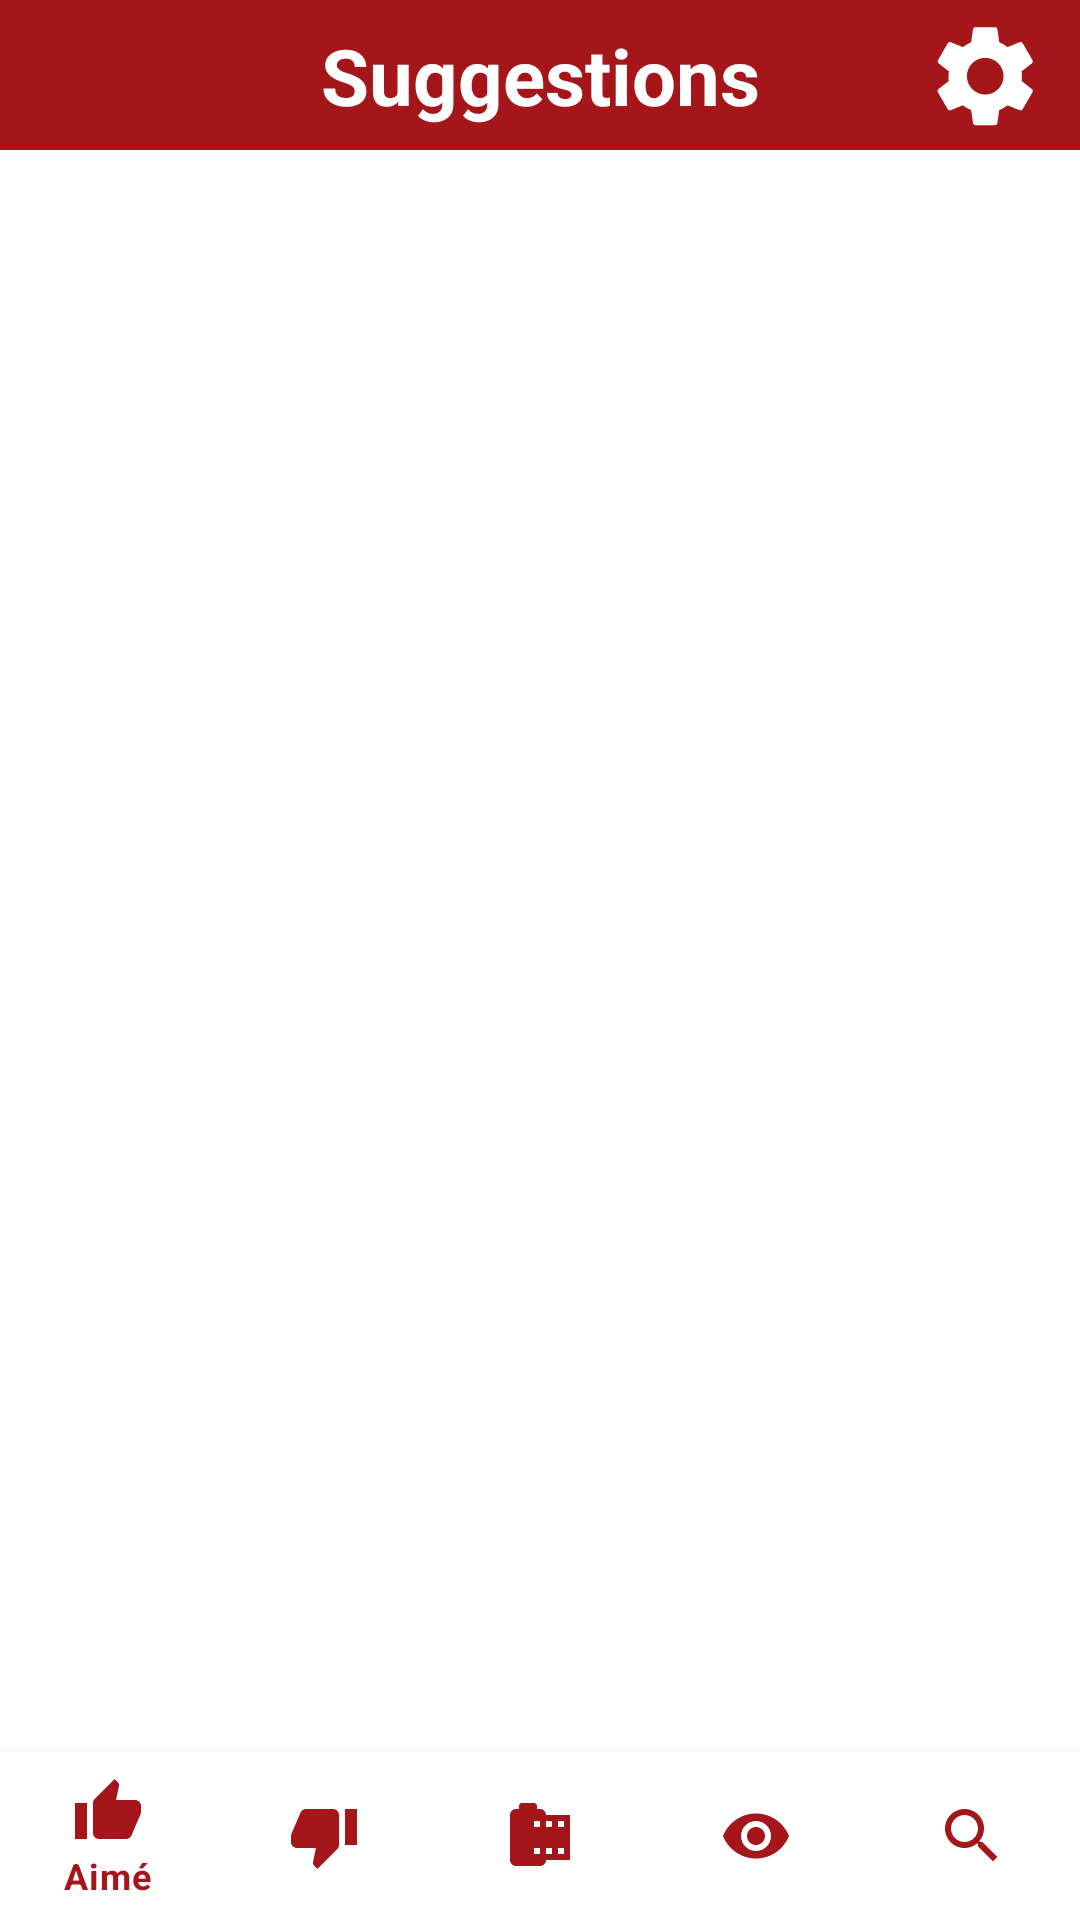

Icons on this 1080x1920 Android screen, each with its box as region(x1, y1, x2, y2):
reglages: region(937, 27, 1033, 126)
